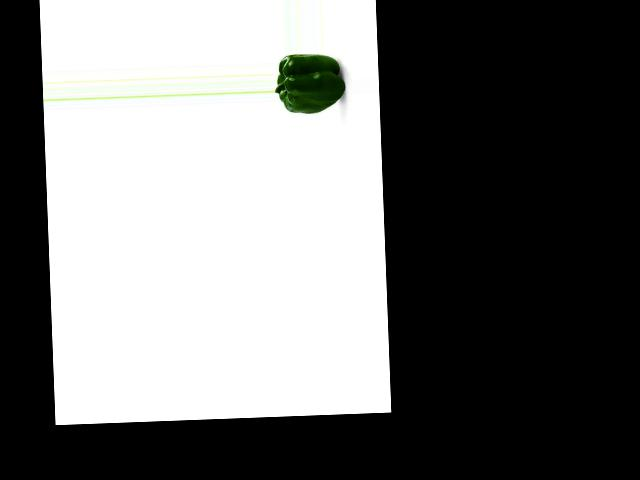bell_pepper: (275, 51, 344, 116)
